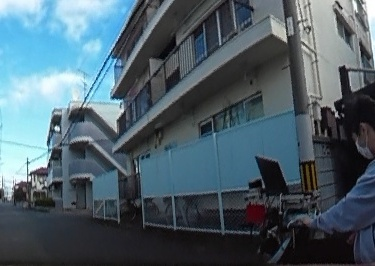person: (282, 90, 375, 266)
